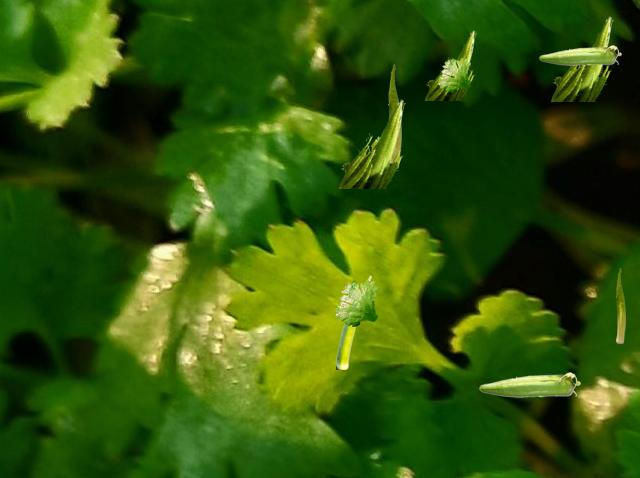okra: (338, 99, 404, 187), (550, 16, 612, 100), (424, 30, 475, 99), (336, 275, 370, 368), (479, 372, 579, 396), (539, 45, 620, 64), (388, 64, 400, 166), (616, 268, 624, 342)
